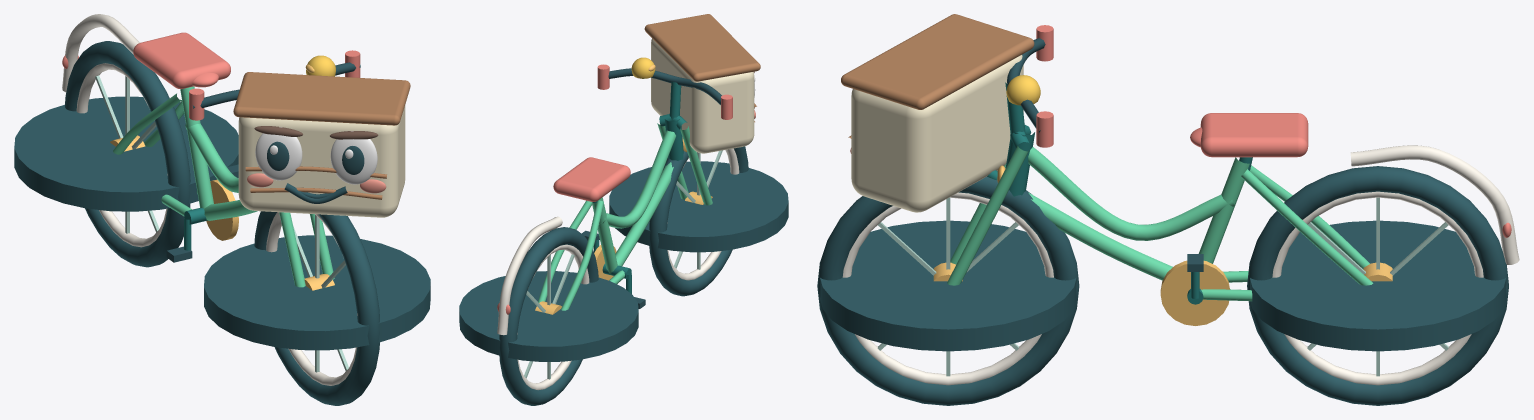
File: mint-bicycle.glb
3 renders of one model, left to right at view 1: azimuth 30°, elevation 25°; view 2: azimuth 150°, elevation 25°; view 3: azimuth 270°, elevation 25°, orthographic. The views are drawn at different scales.
Visible parts, largest first — view 1: Front_Wheel, Rear_Wheel, Basket_Mesh, Basket_Rim, Tire_Rear, Tire_Front, Saddle, Eye_White (×2), Rear_Mudguard, Rim_Rear, Seat_Tube, Rim_Front (+16 smaller); view 2: Rear_Wheel, Front_Wheel, Basket_Mesh, Basket_Rim, Tire_Rear, Tire_Front, Saddle, Top_Tube, Rear_Mudguard, Down_Tube, Seatstay_L, Rim_Rear (+9 smaller); view 3: Front_Wheel, Rear_Wheel, Basket_Mesh, Tire_Rear, Tire_Front, Basket_Rim, Saddle, Rim_Rear, Top_Tube, Rim_Front, Rear_Mudguard, Crank_Disc (+9 smaller).
Boxes of the visible parts, box(x1,y1,x2,y2) form: Front_Wheel: box(204, 235, 430, 350); Rear_Wheel: box(14, 96, 238, 211); Basket_Mesh: box(238, 105, 405, 217); Basket_Rim: box(233, 72, 410, 125); Tire_Rear: box(65, 41, 190, 267); Tire_Front: box(254, 211, 379, 405); Saddle: box(133, 32, 230, 89); Eye_White (×2): box(255, 127, 377, 184); Rear_Mudguard: box(62, 14, 139, 92); Rim_Rear: box(76, 63, 167, 247); Seat_Tube: box(180, 86, 213, 208); Rim_Front: box(266, 212, 357, 385); Rear_Wheel: box(459, 271, 638, 361); Front_Wheel: box(609, 161, 788, 252); Basket_Mesh: box(651, 38, 754, 153); Basket_Rim: box(644, 14, 760, 81); Tire_Rear: box(499, 227, 598, 405); Tire_Front: box(649, 146, 748, 296); Saddle: box(553, 157, 630, 201); Top_Tube: box(599, 130, 675, 228); Rear_Mudguard: box(497, 216, 562, 335); Down_Tube: box(615, 162, 673, 266); Seatstay_L: box(561, 200, 603, 310); Rim_Rear: box(517, 244, 589, 390); Front_Wheel: box(820, 220, 1076, 351); Rear_Wheel: box(1250, 220, 1506, 351); Basket_Mesh: box(851, 55, 1023, 212); Tire_Rear: box(1247, 166, 1508, 405); Tire_Front: box(817, 176, 1079, 405); Basket_Rim: box(841, 14, 1034, 109); Saddle: box(1200, 113, 1308, 157); Rim_Rear: box(1272, 191, 1483, 385); Top_Tube: box(1028, 147, 1234, 240); Rim_Front: box(842, 192, 1053, 385); Rear_Mudguard: box(1350, 145, 1519, 264); Crank_Disc: box(1160, 260, 1229, 325).
Bounding box in the file's own units: 0.48 × 0.716 × 1.31.
